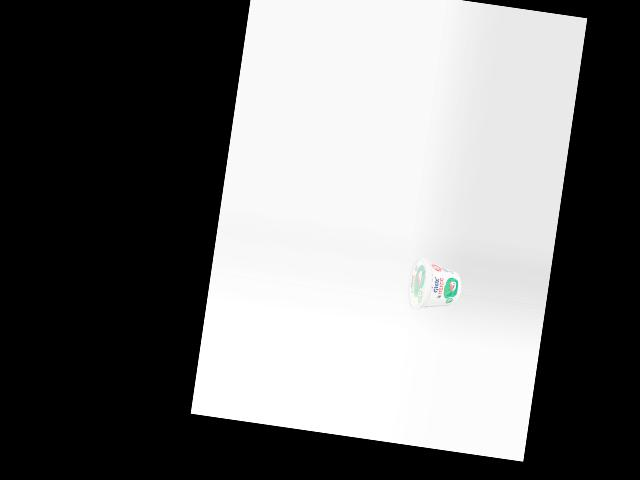cotage: (404, 255, 464, 316)
